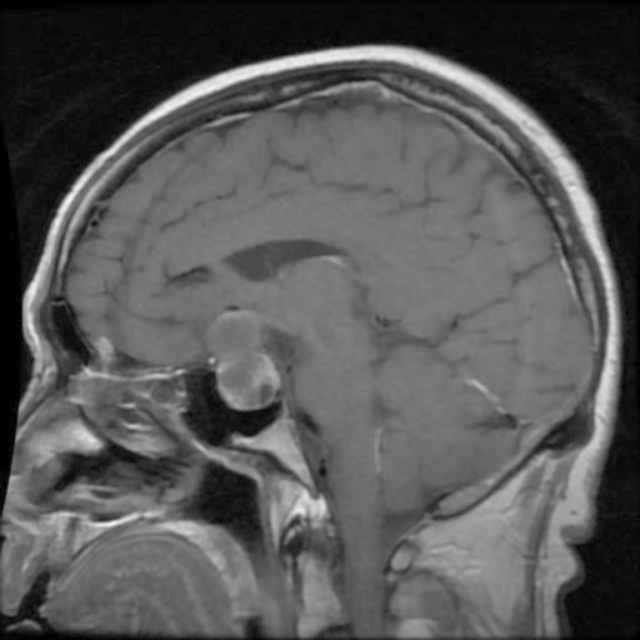no tumor: (205, 310, 286, 408)
